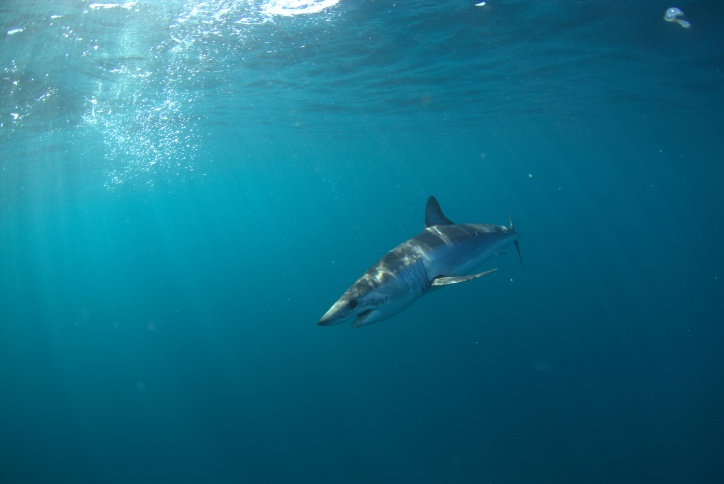Mako: (305, 192, 532, 355)
